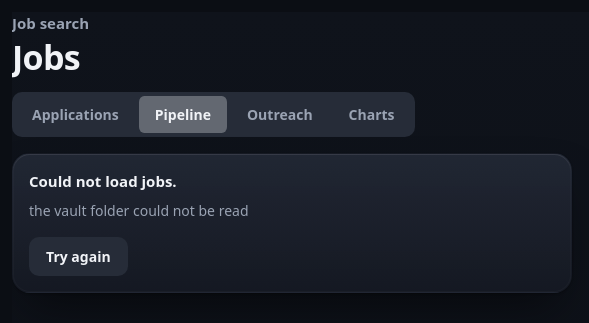
Jobs page states › explains a failed load and tries again
The image size is (589, 323).
Check: the message shows "Could not load jobs.", box [29, 171, 177, 191]
Check: the message shows "the vault folder could not be read", box [29, 201, 248, 220]
Click the button "Try again" at (78, 257), box [29, 237, 128, 276]
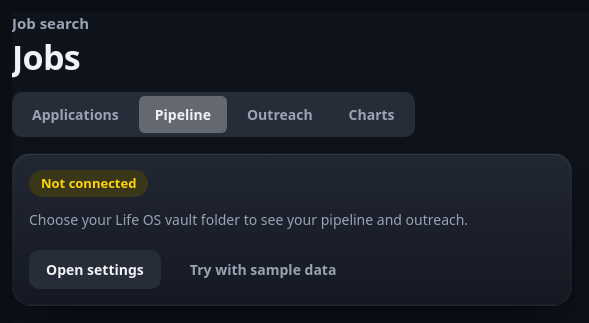
Check: the text "Not connected" is shown, box [29, 170, 148, 197]
Check: the message "Could not load jobs. the vault folder could not be read Try again" is gone
